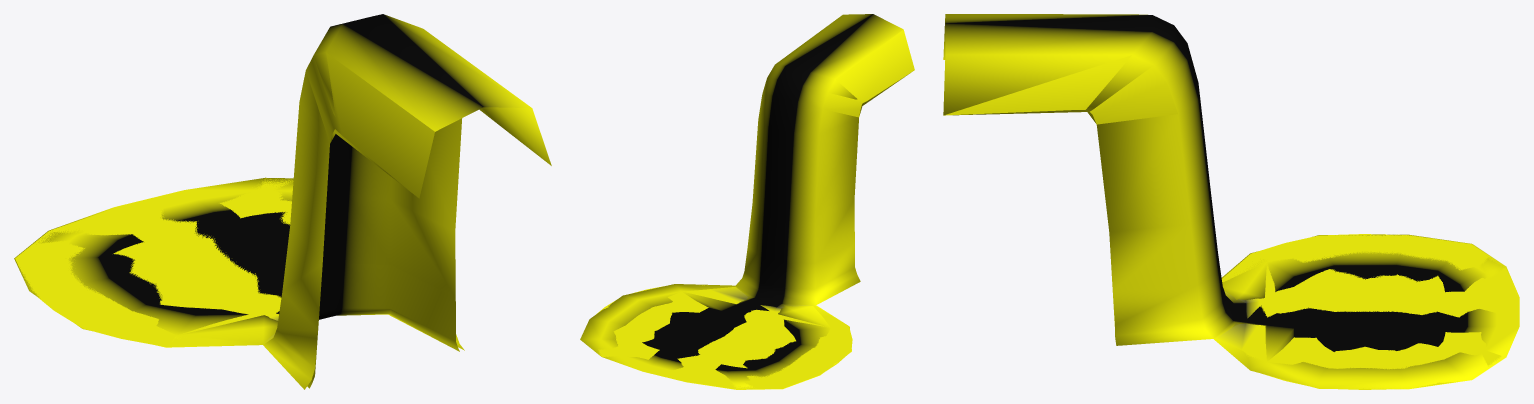
The model's file is Waterfall_Example_Asset_fbx.fbx.
3 views of the same model, side by side, from view 1: azimuth 30°, elevation 25°; view 2: azimuth 150°, elevation 25°; view 3: azimuth 270°, elevation 25° (orthographic). The views are drawn at different scales.
Visible parts, largest first — view 1: Waterfall_Example_Asset, Waterfall_Lava_Example_Asset; view 2: Waterfall_Example_Asset, Waterfall_Lava_Example_Asset; view 3: Waterfall_Example_Asset, Waterfall_Lava_Example_Asset.
Part boxes in pixels (x1,y1,x2,y2): Waterfall_Example_Asset: (14, 14, 551, 389); Waterfall_Lava_Example_Asset: (15, 52, 459, 388); Waterfall_Example_Asset: (580, 14, 909, 389); Waterfall_Lava_Example_Asset: (596, 29, 914, 389); Waterfall_Example_Asset: (943, 14, 1519, 389); Waterfall_Lava_Example_Asset: (944, 55, 1519, 389).
Size of the model in its own units: 1668 by 1439 by 2604.
